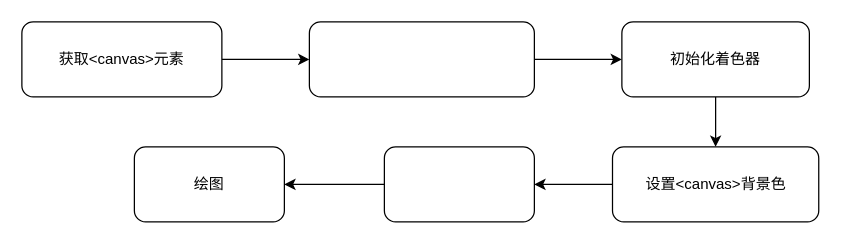
This 841x244 diagram has some shape labels left out. The centre of each missing label's shape, as x and y in pixels:
清除<canvas>: the point at 458,184
获取Webgl绘图上下文: the point at 421,59
